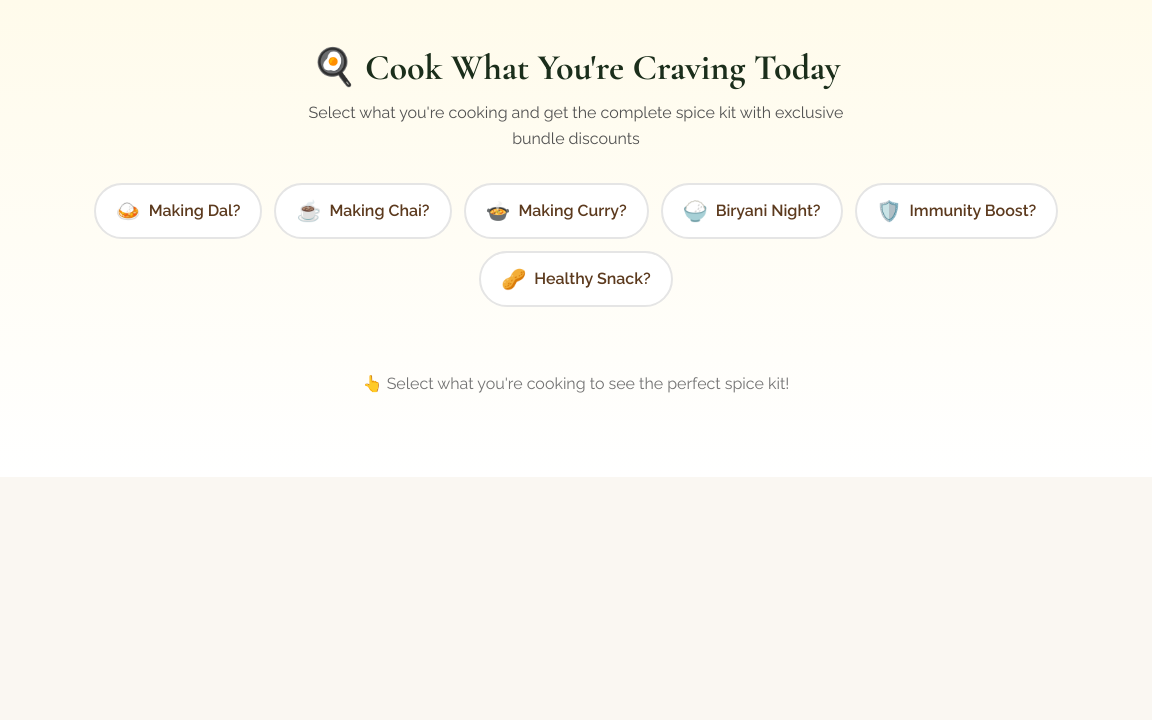
Test case: CookingContextWidget › toggles selection off when clicking the same option again
Click the text "Making Dal?": coordinates (194, 211) [149,199,240,223]
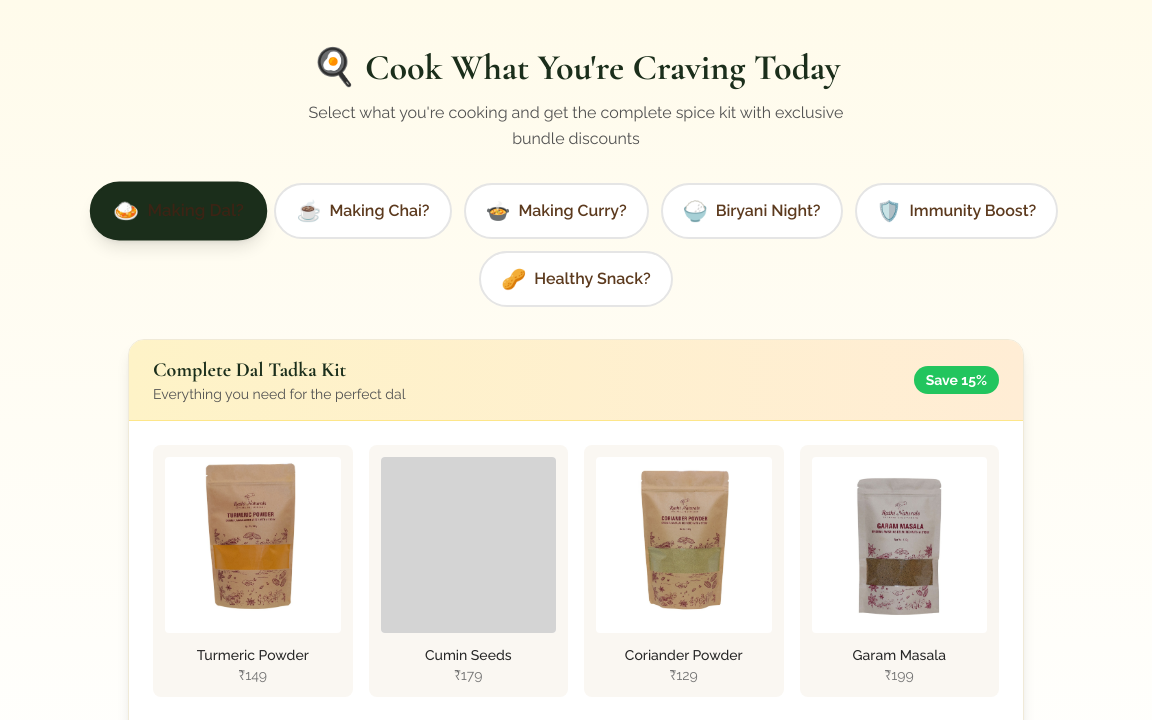
Check: the heading "Complete Dal Tadka Kit" is shown, box [153,358,346,382]
Click the text "Making Dal?": coordinates (195, 211) [147,199,244,224]
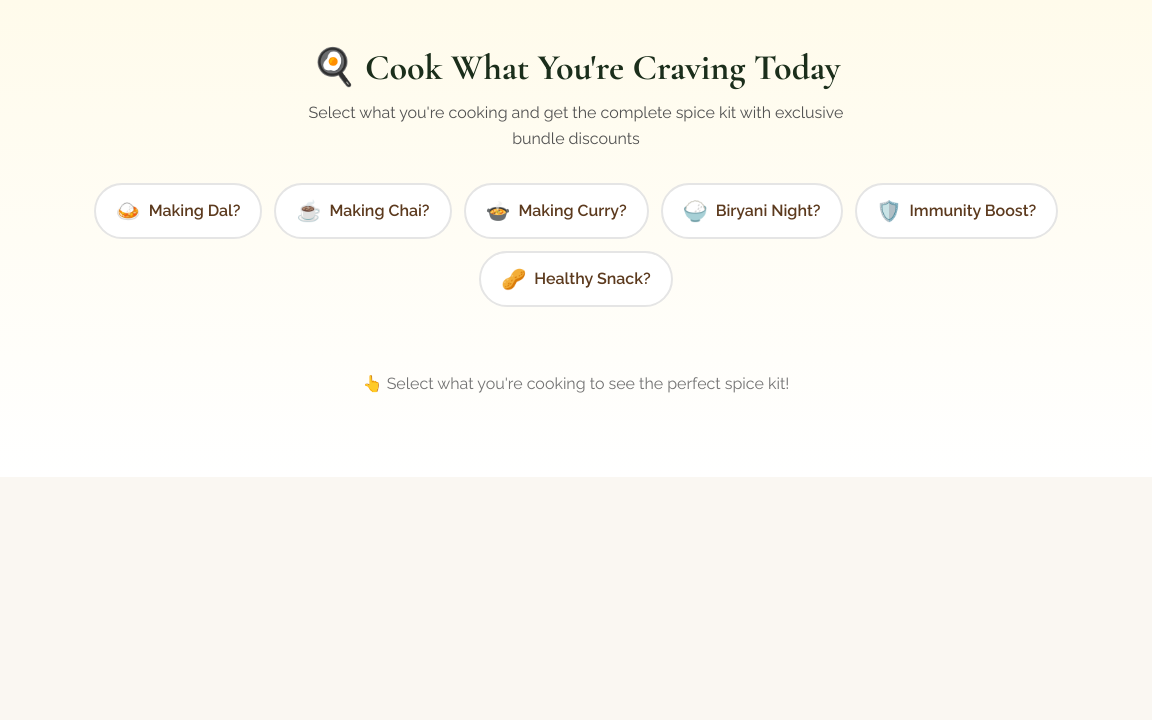
Check: the heading "Complete Dal Tadka Kit" is gone
Check: the text "👆 Select what you're cooking to see the perfect spice kit!" is shown, box [363,374,789,393]
